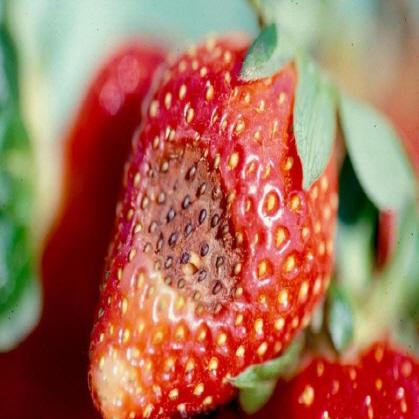Anthracnose Fruit Rot: (126, 137, 256, 322)
